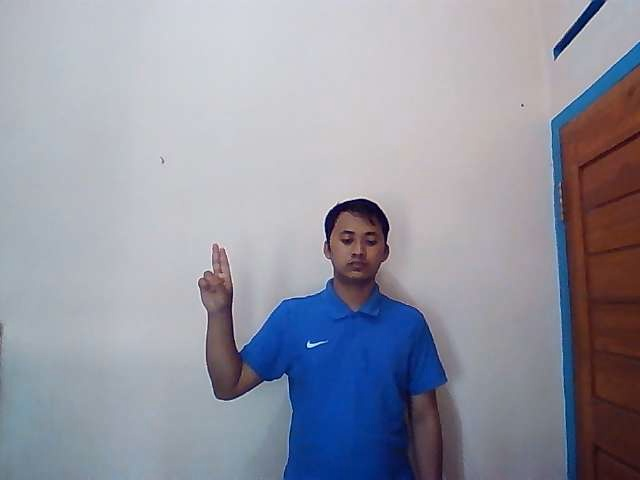U: (197, 243, 233, 312)
